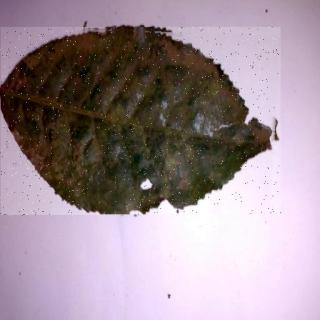Anthracnose: (2, 28, 282, 217)
